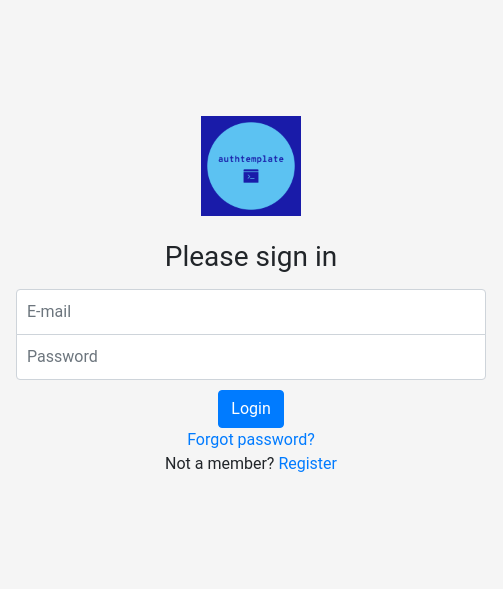
it: Register page checks › Email, name, password and confirmation required
The image size is (503, 589).
Click the link with test id "loginRegisterLink": (308, 464) [278, 454, 337, 473]
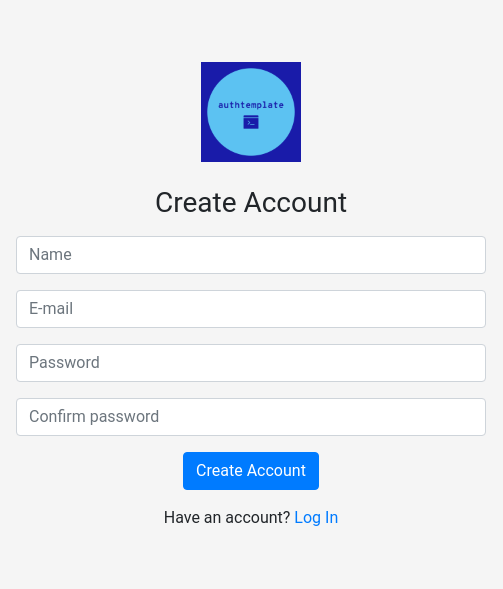
Click the button with test id "registerBtn": (251, 471) [183, 452, 319, 490]
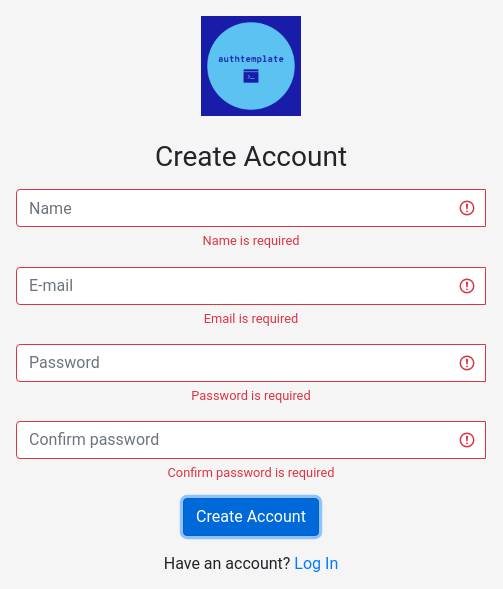
Check: the text with test id "registerNameError" reads "Name is required", box [203, 233, 300, 248]
Check: the text with test id "registerEmailError" reads "Email is required", box [204, 311, 298, 326]
Check: the text with test id "registerPasswordError" reads "Password is required", box [191, 388, 310, 403]
